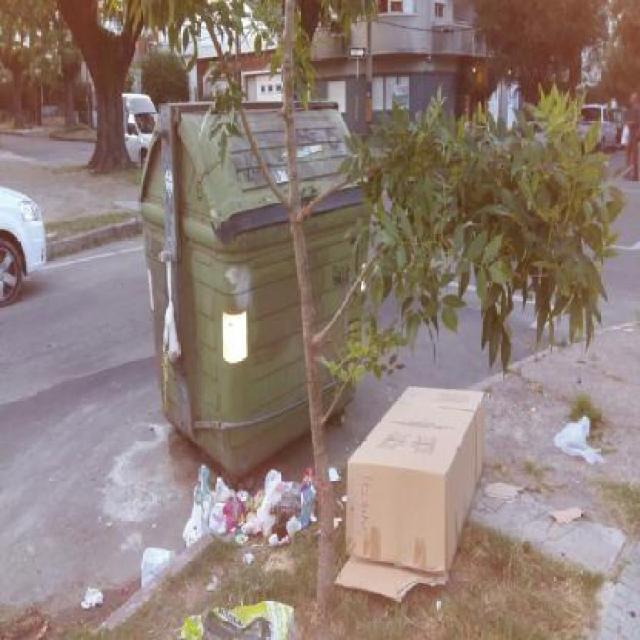garbage: (183, 457, 309, 548), (172, 592, 290, 638), (554, 400, 598, 462)
